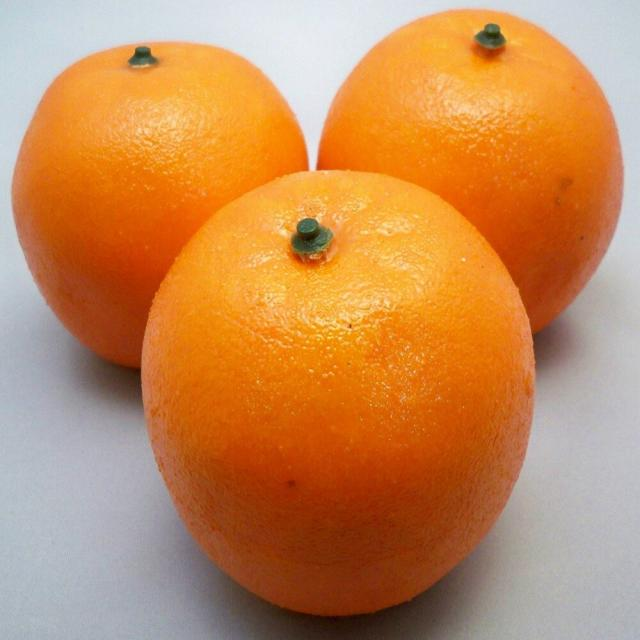Orange: (148, 173, 537, 614), (309, 10, 626, 333), (7, 41, 310, 372)
